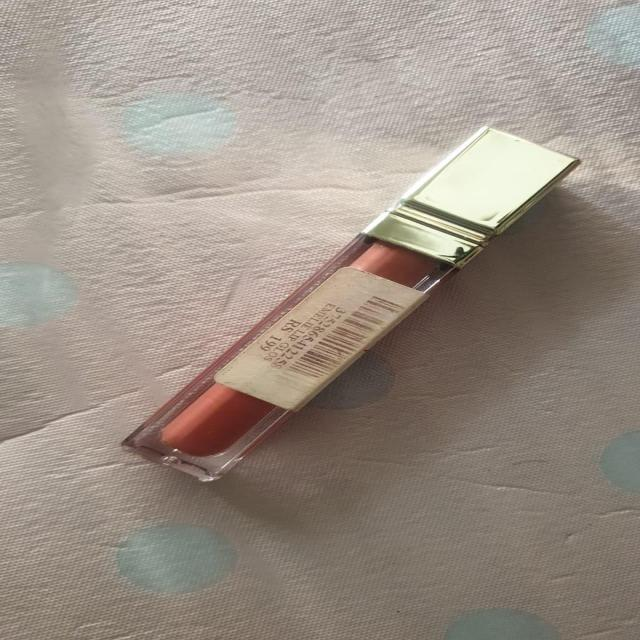lip gloss: (114, 136, 612, 489)
